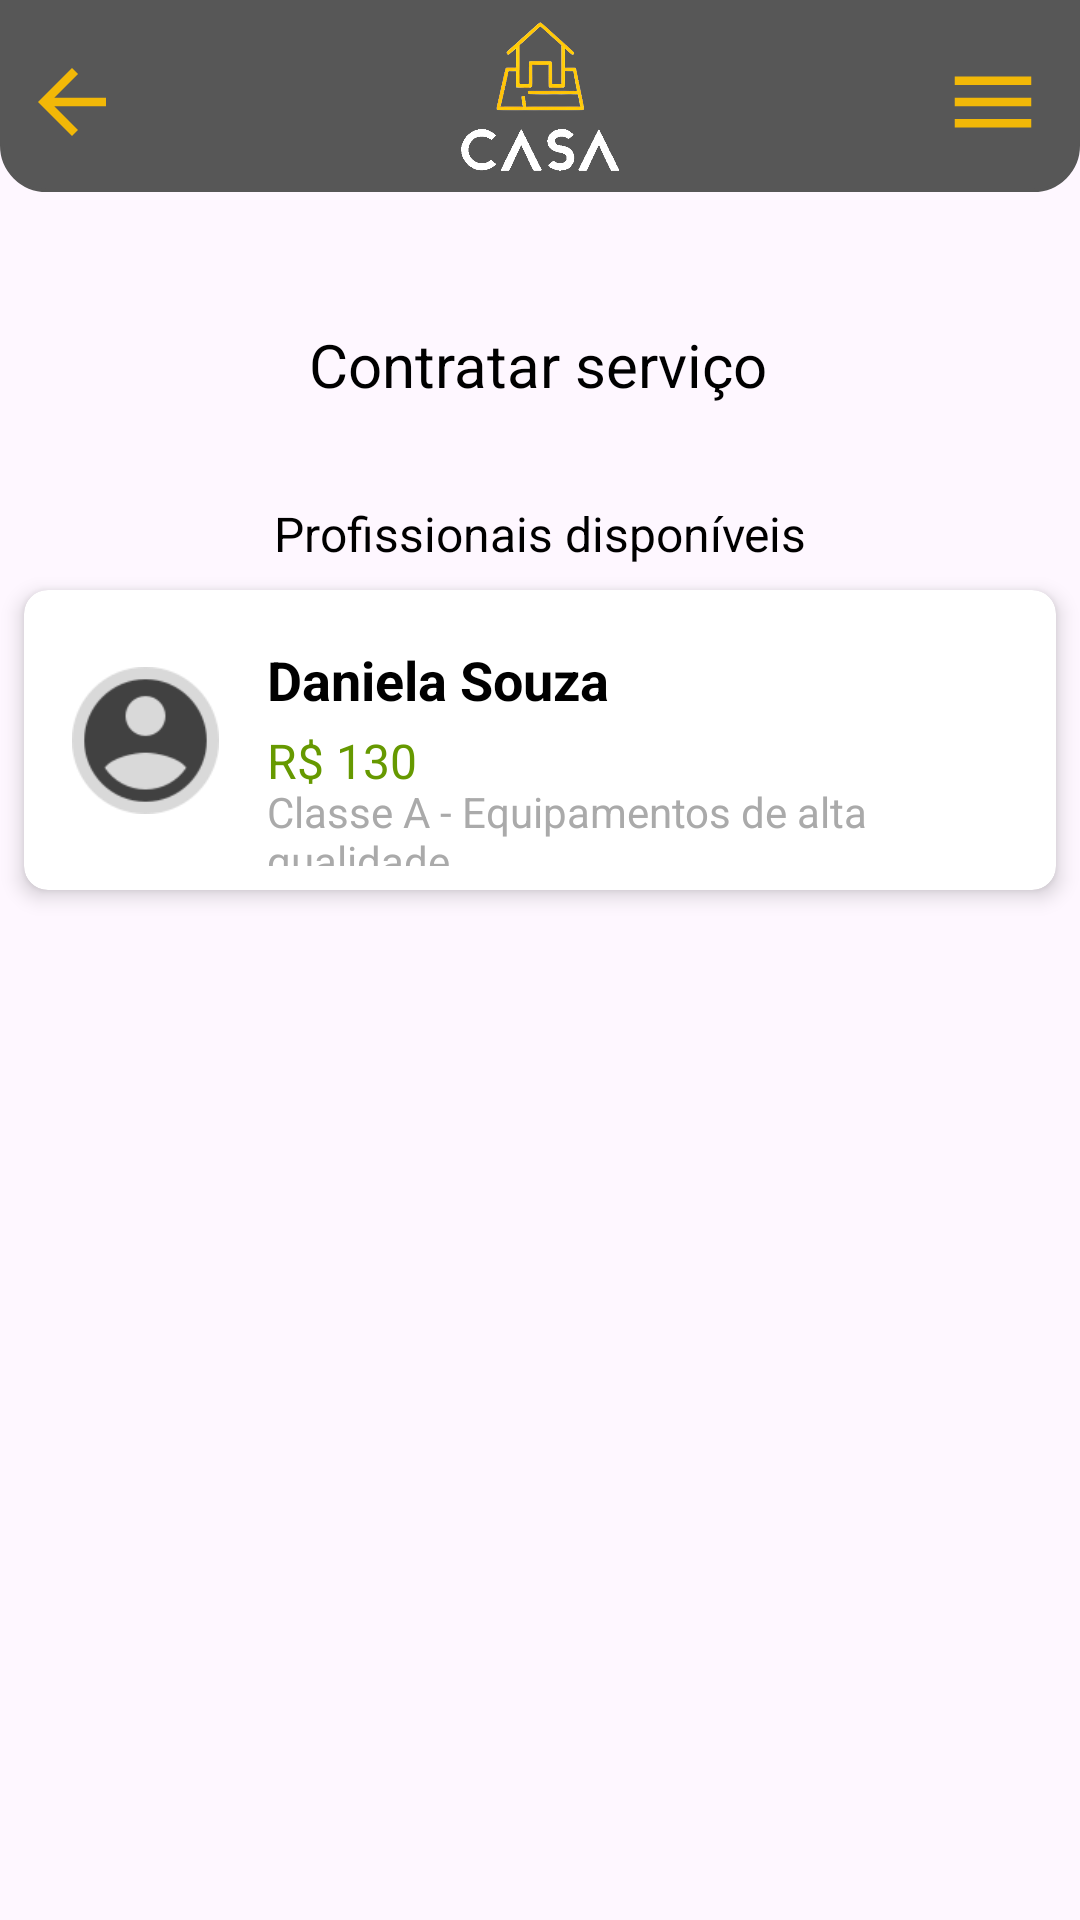

Icon bounding boxes for this 1080×1920 phone screenshot, format (x1, y1, x2, y2):
arrow back: (38, 68, 106, 136)
menu: (954, 76, 1032, 128)
Ícone de pessoa: (72, 667, 219, 814)
